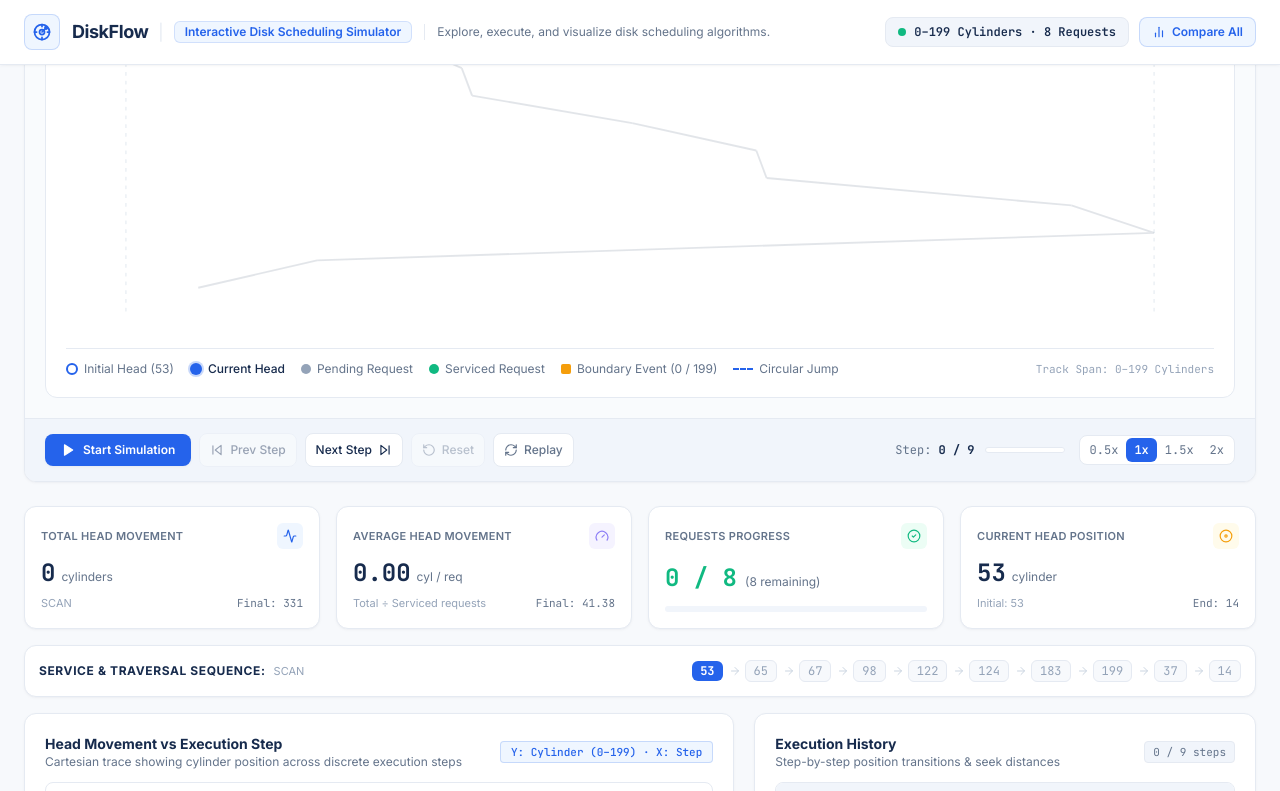
Test case: DiskFlow — Full UI Integration Tests › renders single-page simulator with default textbook configuration and updates live on Next/Prev Step & Reset
(page scrolled)
expect the heading "DiskFlow" is shown: met, box [72, 18, 148, 46]
expect the text "Interactive Disk Scheduling Simulator" is shown: met, box [174, 21, 412, 43]
Click the button titled "Next Step": [354, 450] box [305, 433, 403, 467]
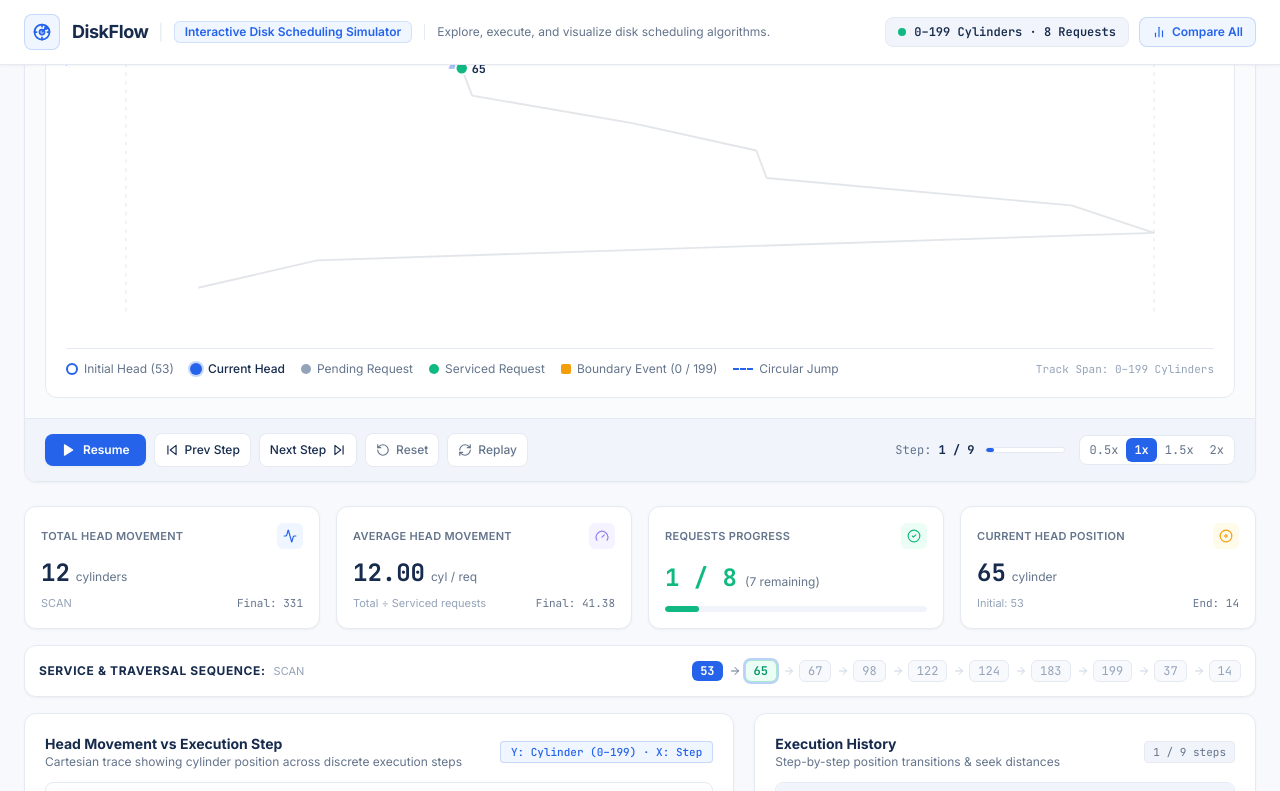
expect the text with test id "kpi-total-movement" reads "12": met, box [41, 557, 70, 588]
Click the button titled "Next Step": [308, 450] box [259, 433, 357, 467]
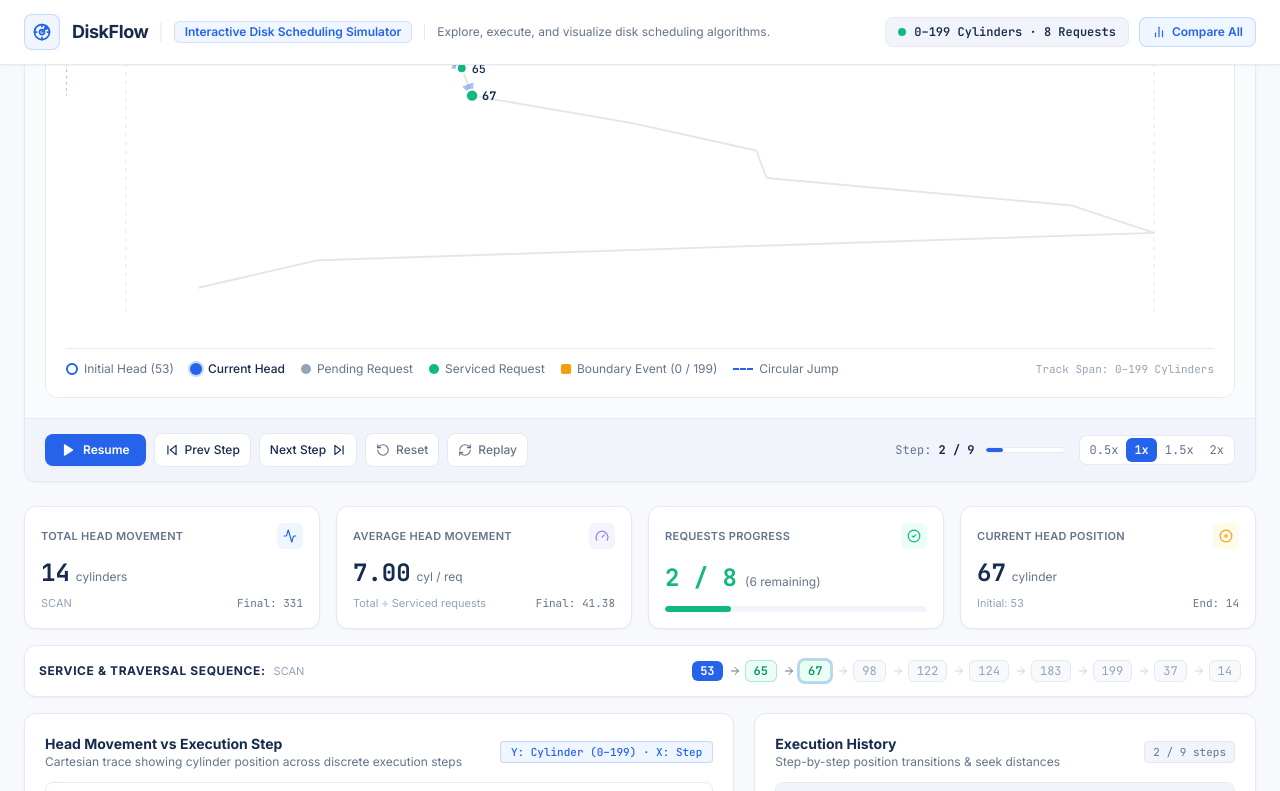
expect the text with test id "kpi-total-movement" reads "14": met, box [41, 557, 70, 588]
# Previous Step genuinely restores Step 1 exact state
Click the button titled "Previous Step": [202, 450] box [154, 433, 251, 467]
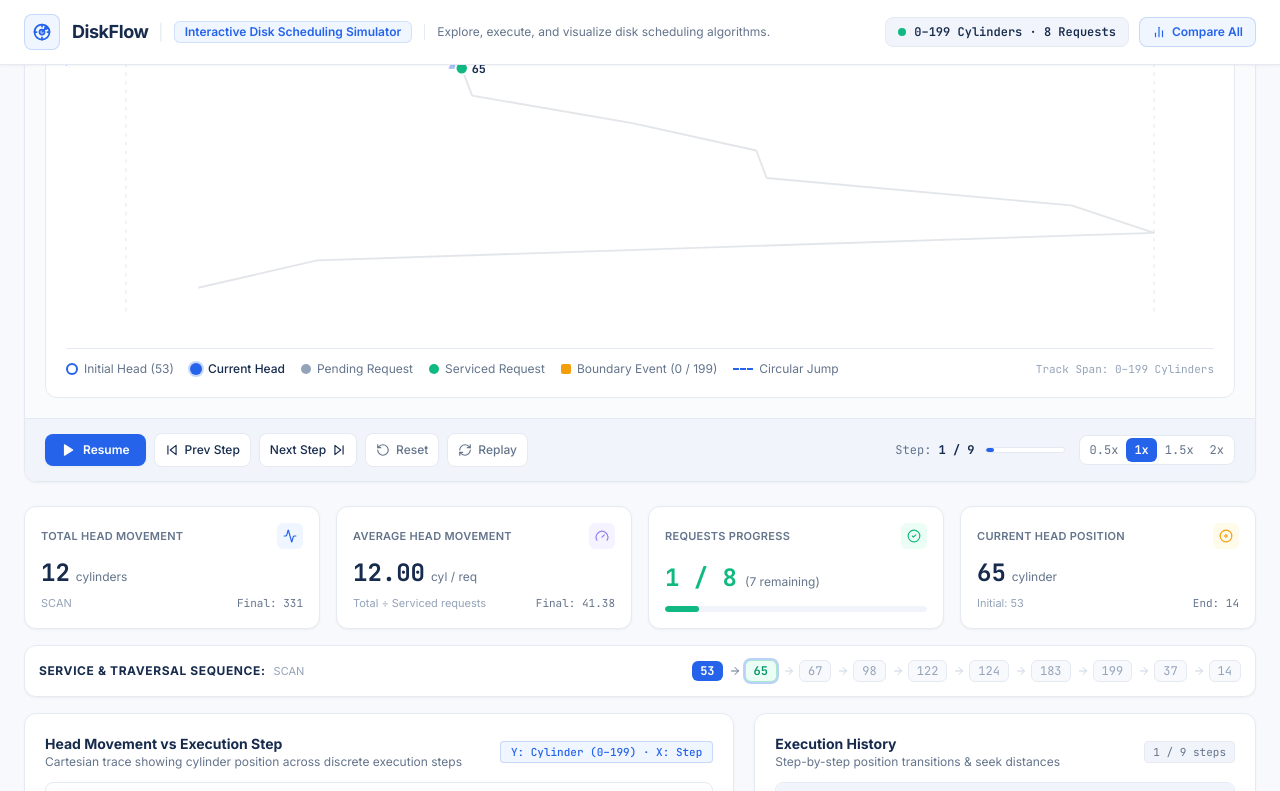
expect the text with test id "kpi-total-movement" reads "12": met, box [41, 557, 70, 588]
# Reset restores Step 0
Click the button titled "Reset to Initial Position": [402, 450] box [365, 433, 439, 467]
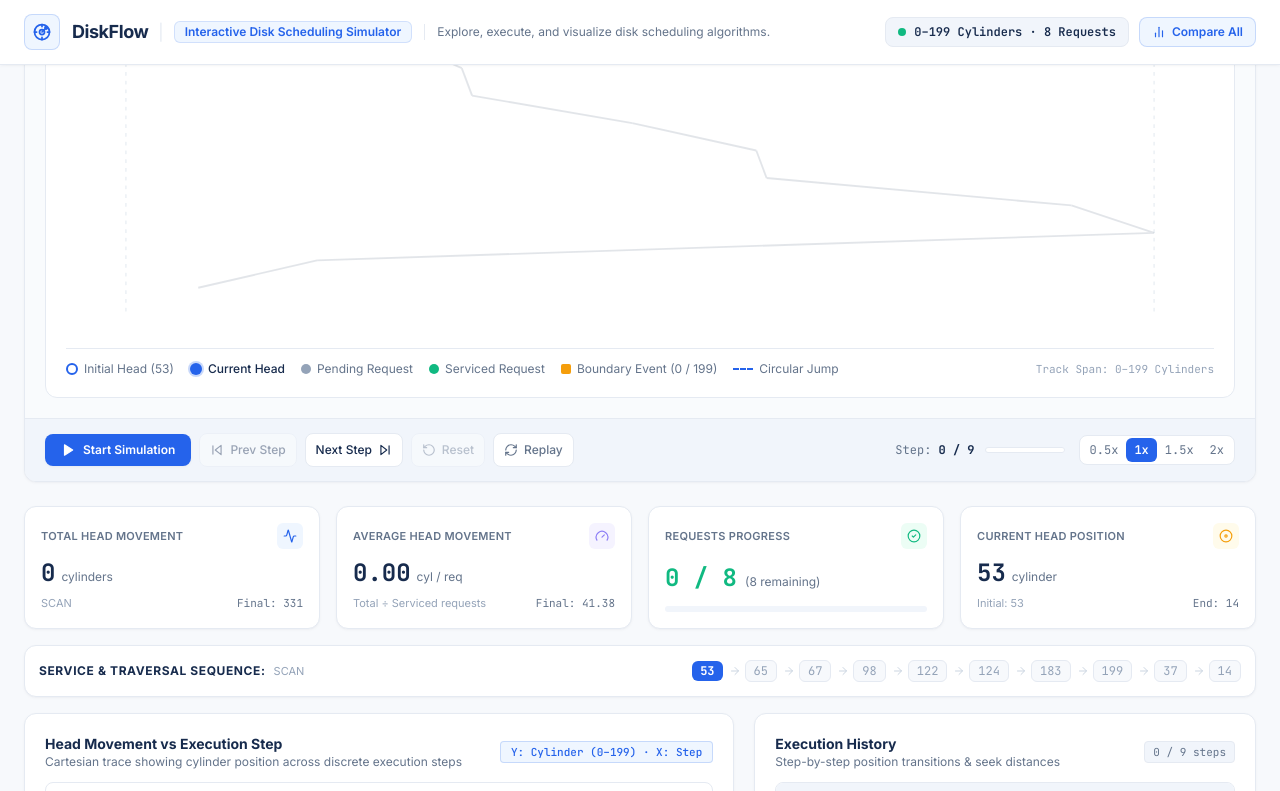
expect the text with test id "kpi-total-movement" reads "0": met, box [41, 557, 55, 588]
